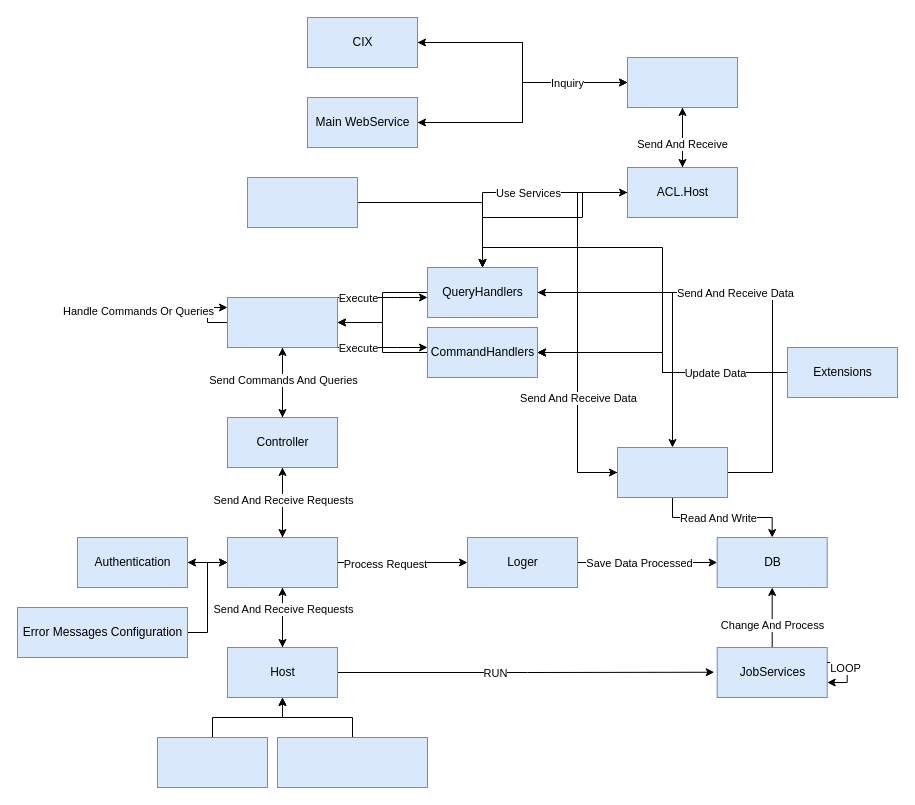
Image size: 915x805. Some labels were removed from this diagram. The centre of each missing label's shape, as x and y in pixels:
"Distributer" goes at point 282,322.
"Markers" goes at point 212,762.
"Middleware" goes at point 282,562.
"Organization" goes at point 682,82.
"Repository" goes at point 672,472.
"Service Configuration" goes at point 352,762.
"Settings" goes at point 302,202.
